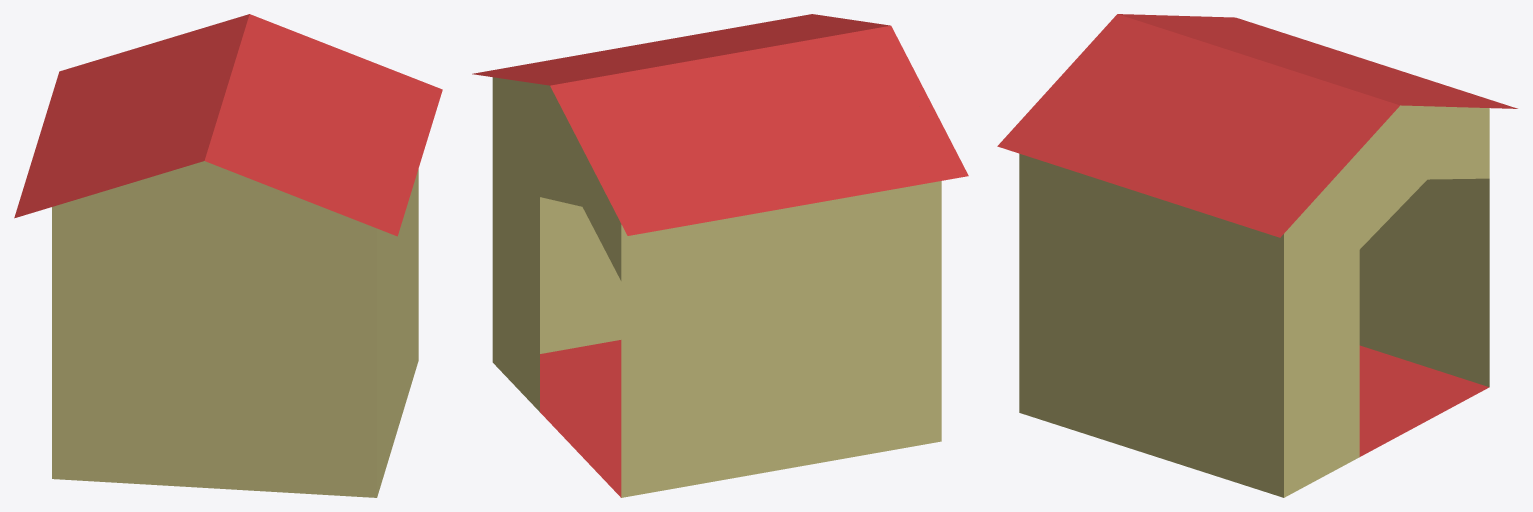
3 views of the same model, side by side, from view 1: azimuth 30°, elevation 25°; view 2: azimuth 150°, elevation 25°; view 3: azimuth 270°, elevation 25° (orthographic). The views are drawn at different scales.
Size of the model in its own units: 17.66 by 17.43 by 12.43.
